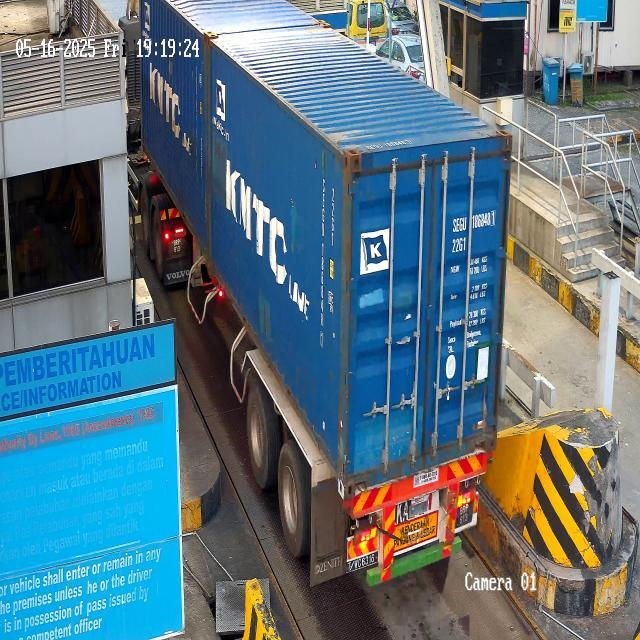ISO: (328, 182, 336, 256), (450, 230, 472, 253)
container_number: (318, 178, 328, 354), (447, 210, 498, 228)
